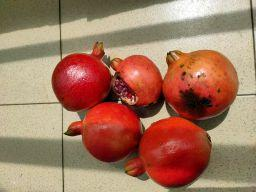pomegranate: (125, 116, 212, 188), (163, 49, 239, 118), (65, 102, 144, 163), (51, 40, 111, 111), (112, 55, 162, 108)
